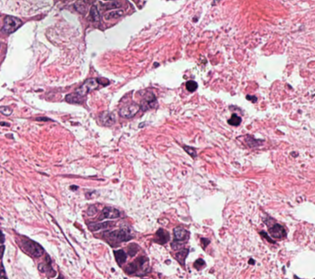nucleus: (75, 78, 108, 97), (104, 228, 132, 245), (125, 256, 149, 275), (171, 226, 189, 249), (119, 102, 140, 118), (267, 221, 286, 238), (98, 206, 120, 220), (140, 91, 156, 110), (175, 247, 188, 266), (154, 228, 169, 244), (244, 135, 263, 147), (99, 112, 115, 125), (113, 249, 126, 265), (65, 92, 83, 103), (88, 222, 111, 230), (183, 145, 196, 157), (260, 231, 274, 242), (228, 113, 240, 125), (185, 80, 197, 91), (193, 258, 205, 269), (128, 243, 138, 256), (200, 237, 209, 249), (87, 205, 95, 215), (246, 95, 256, 102), (36, 117, 50, 120), (70, 186, 77, 189), (249, 259, 254, 263)
